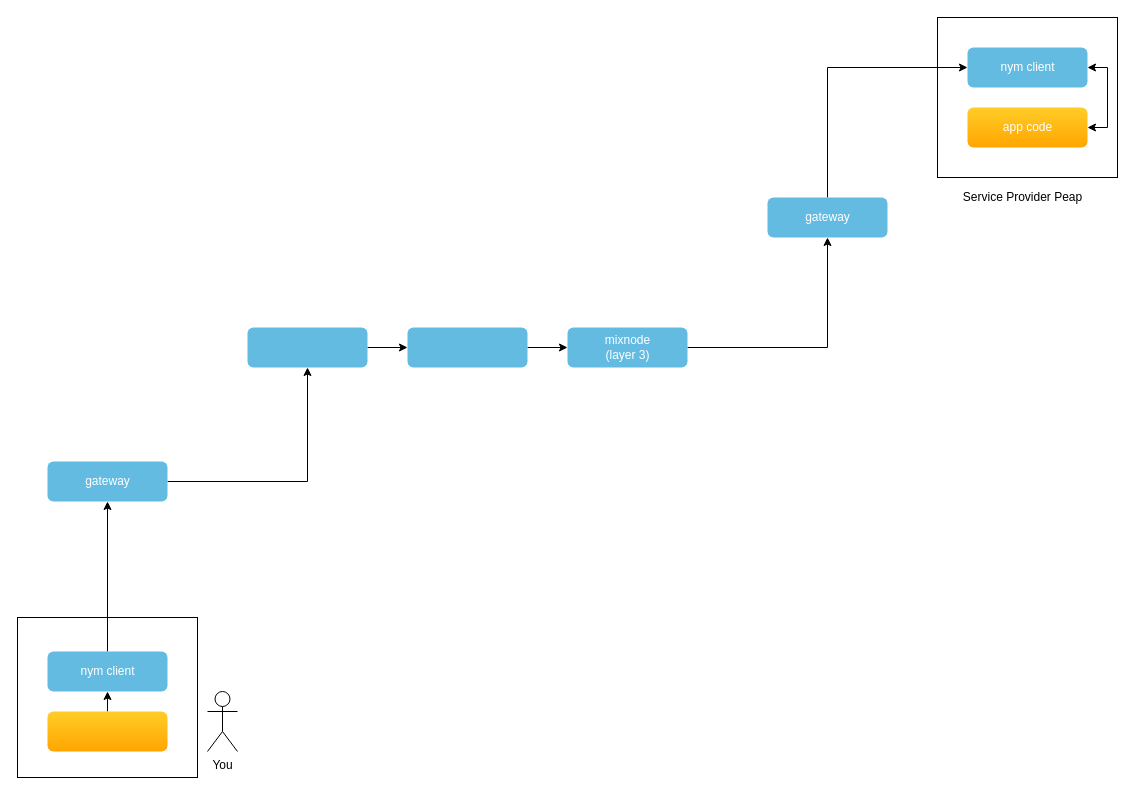
Image size: 1135x795. Some labels were removed from this diagram. Each missing label, with the centre of its shape:
"mixnode (layer 1)" goes at (307,347).
"mixnode (layer 2)" goes at (467,347).
"your code" goes at (107,731).
